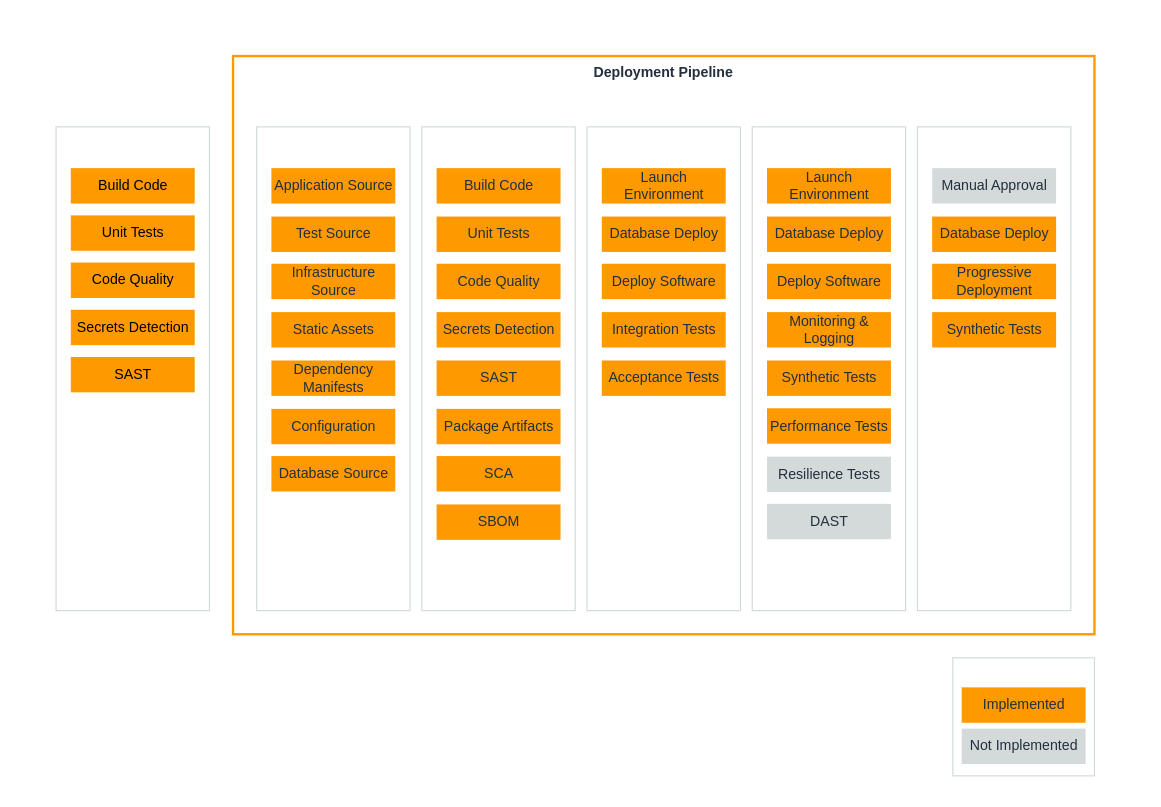
Some shapes in this 1161 by 807 pixel diagram are drawn without their labels. The box of each missing label's shape, as (x1, y1, x2, y2) in pixels:
Build Stage: (421, 126, 575, 611)
Legend: (952, 657, 1094, 776)
Local Development: (55, 126, 209, 611)
Prod Stage: (916, 126, 1071, 611)
Source Stage: (255, 126, 410, 611)
Test (Beta) Stage: (586, 126, 740, 611)
Test (Gamma) Stage: (751, 126, 906, 611)
